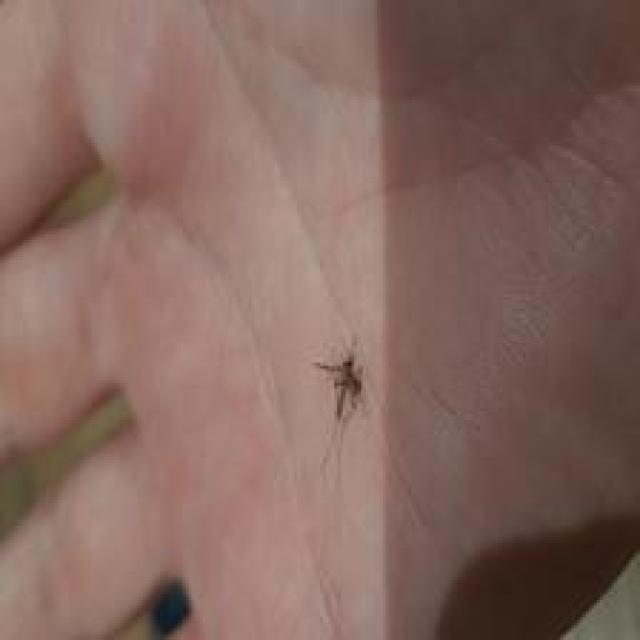Culex: (314, 350, 366, 421)
